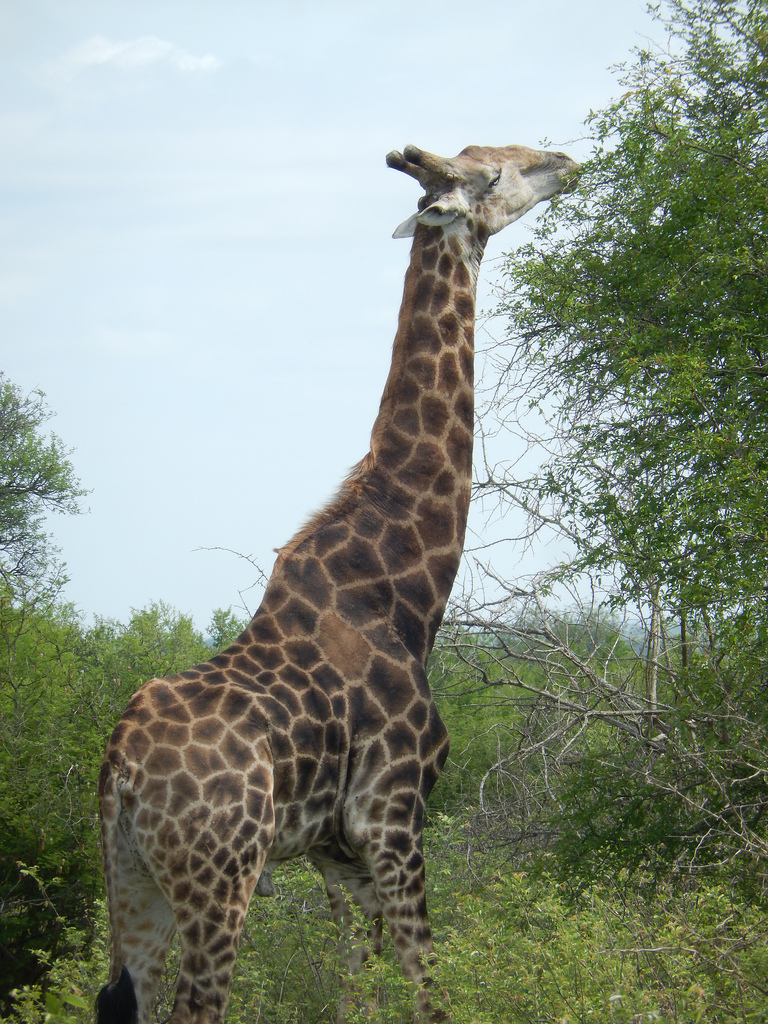giraffe: (97, 130, 643, 990)
